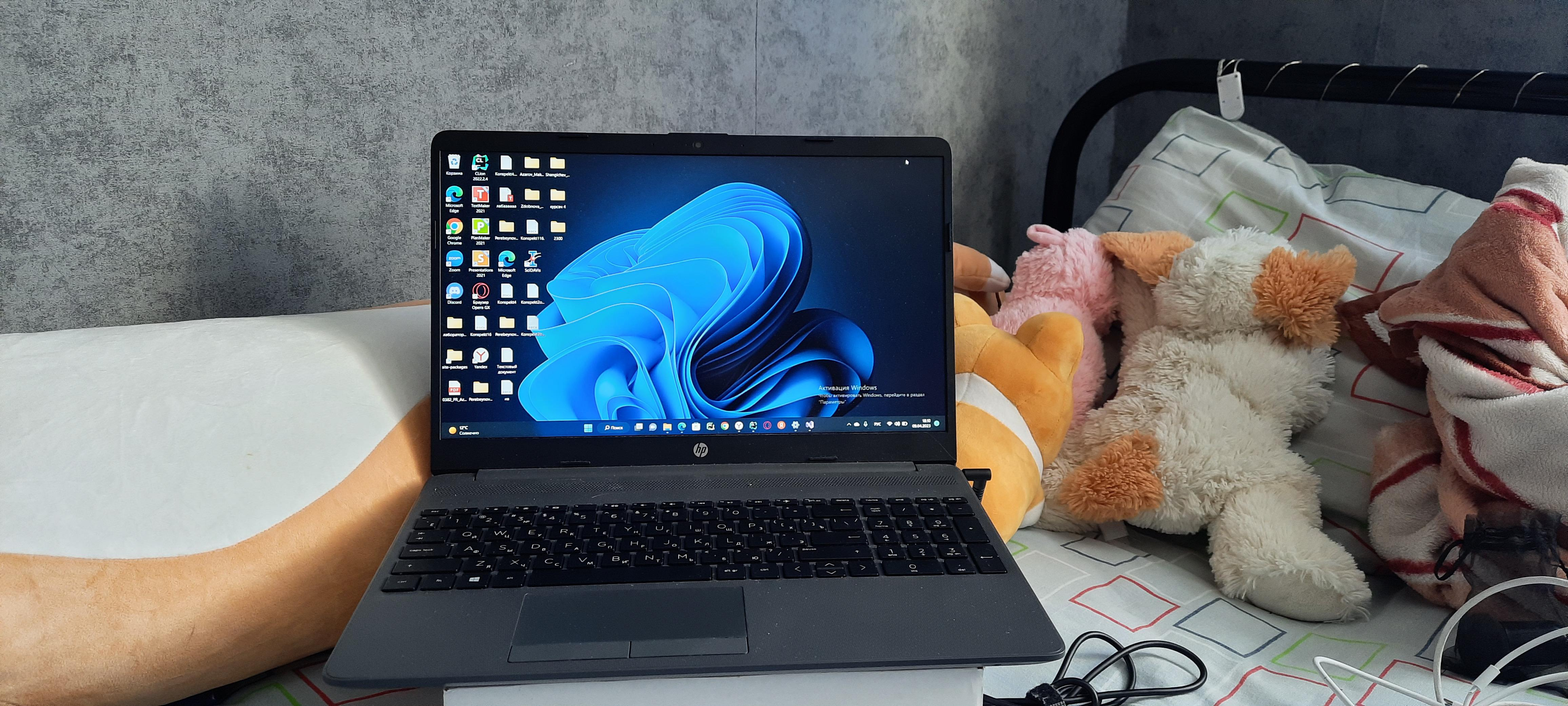monitor: (417, 122, 980, 486)
